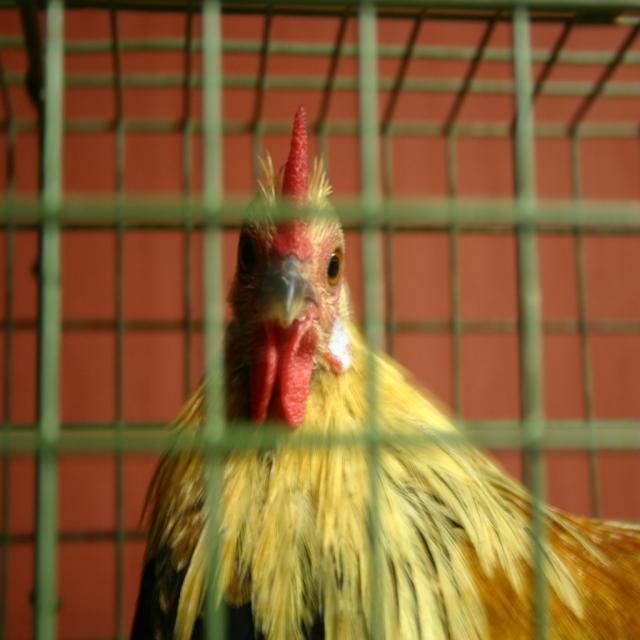Chicken: (129, 105, 640, 640)
